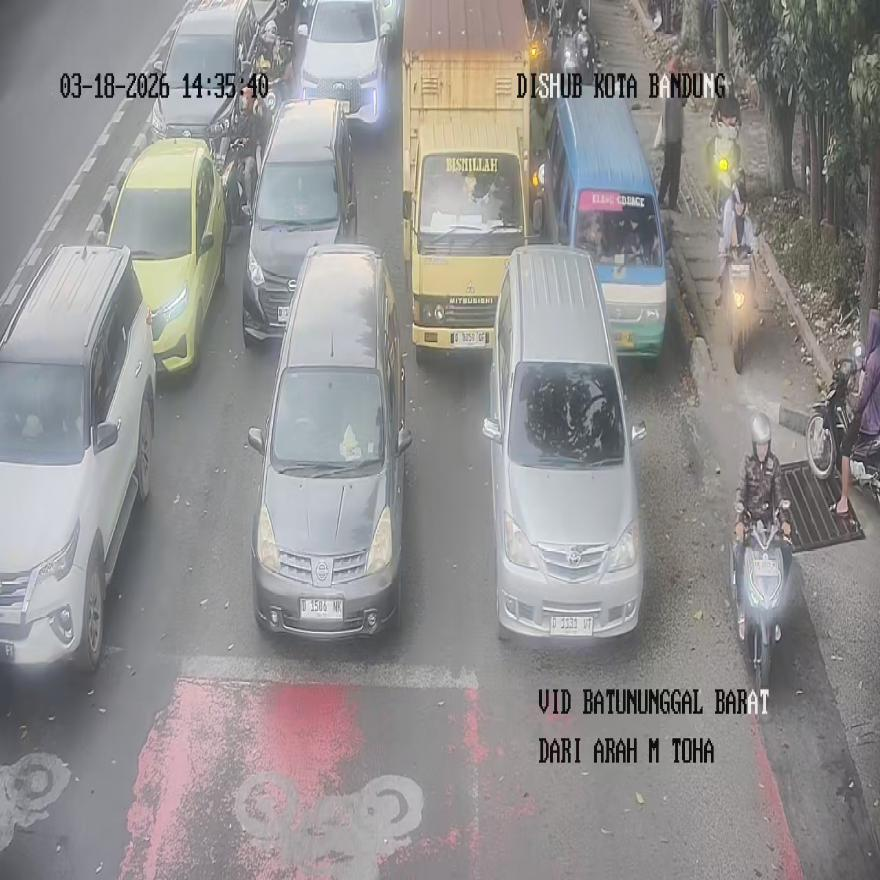Motor: (0, 242, 155, 670), (247, 242, 411, 638), (484, 245, 646, 640), (401, 1, 533, 353), (540, 90, 668, 360), (105, 137, 227, 374), (241, 98, 357, 347), (147, 0, 259, 161), (297, 0, 393, 132)
Truk: (806, 344, 879, 509), (732, 504, 793, 690), (720, 246, 757, 372), (704, 115, 741, 225), (218, 136, 256, 243), (549, 1, 594, 89), (256, 28, 294, 111)
